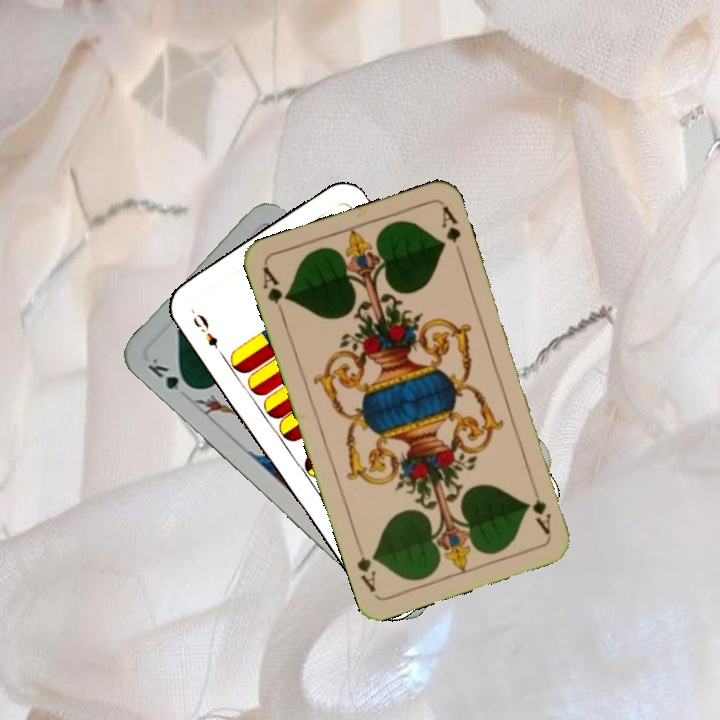E9: (188, 310, 221, 351)
GA: (258, 263, 291, 321), (526, 480, 554, 538)
GK: (144, 354, 196, 393)
